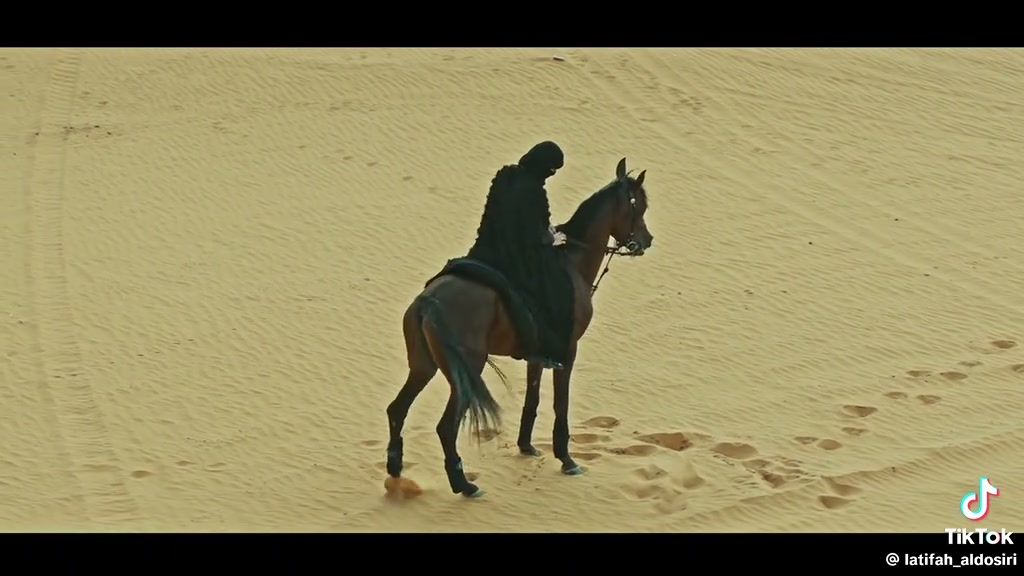animal_foot_print: (621, 462, 704, 513), (741, 457, 809, 489), (634, 432, 709, 451), (817, 477, 861, 509), (969, 338, 1017, 354), (905, 370, 968, 382), (794, 436, 842, 450), (840, 404, 877, 418), (582, 416, 620, 429), (570, 432, 609, 444), (473, 428, 500, 441), (840, 426, 867, 436), (990, 339, 1016, 349), (915, 394, 941, 404), (883, 391, 907, 400), (1009, 363, 1023, 374)
